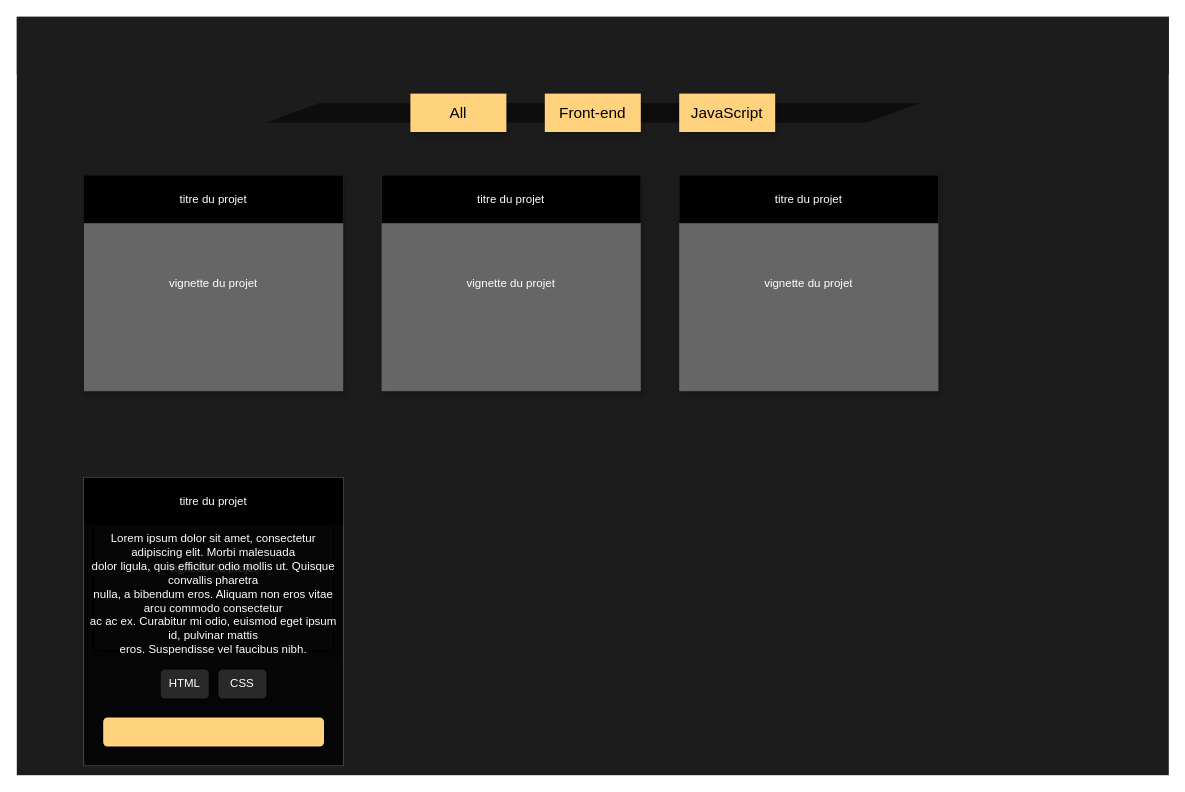
The diagram is 1185 pixels wide and 792 high, and some of its shapes have lost their labels. Here are the shapes that lost their labels. From the top down, the centre of each, then its label:
At [592,45]: "web development portfolio".
At [214,733]: "GO TO".
